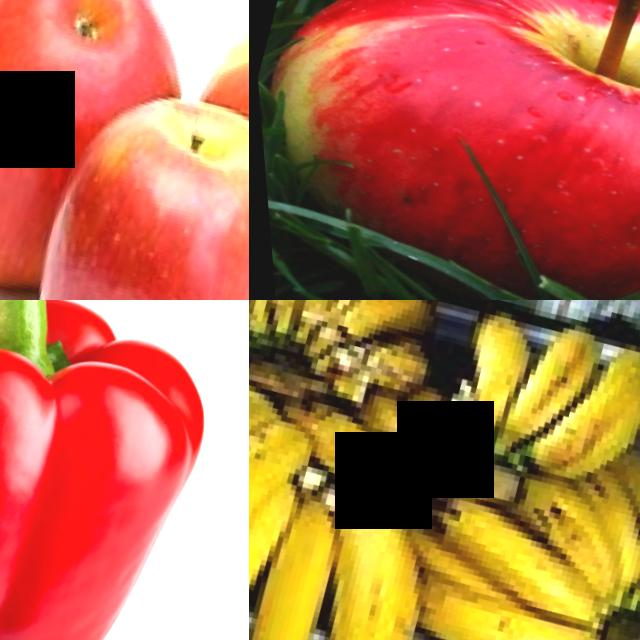apple: (249, 0, 640, 300), (0, 62, 249, 300), (0, 0, 157, 300)
banana: (413, 488, 621, 640), (287, 486, 449, 640), (520, 324, 640, 512), (427, 301, 539, 467), (478, 309, 596, 466), (474, 474, 623, 595), (373, 569, 607, 640), (249, 488, 358, 640), (317, 300, 476, 378), (249, 398, 314, 587), (249, 462, 307, 640), (608, 459, 640, 615)
bell pepper: (0, 300, 249, 640)
